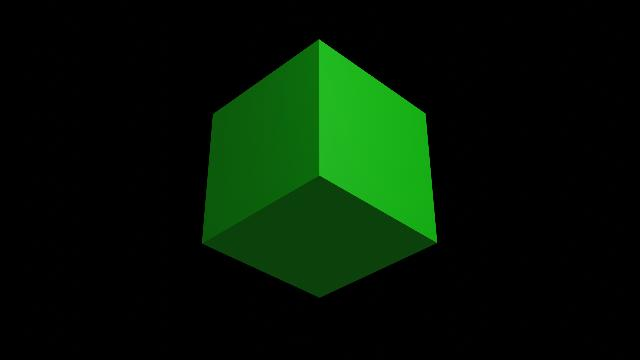Cube: (190, 34, 448, 304)
